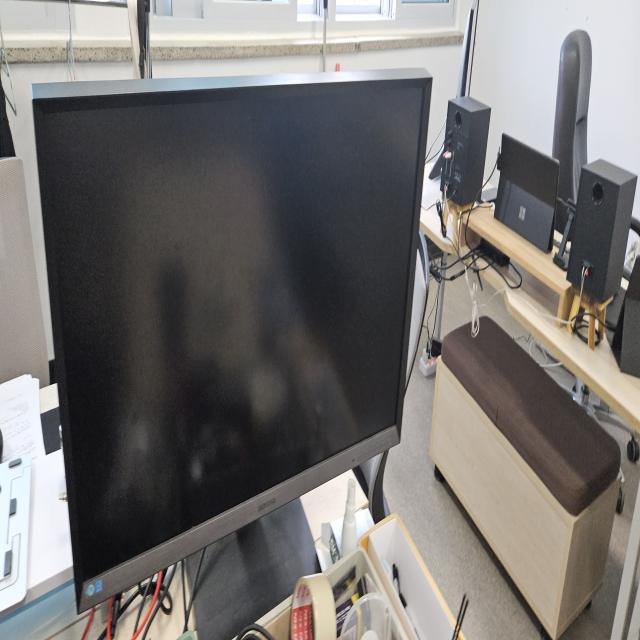Monitor: (29, 65, 433, 614)
